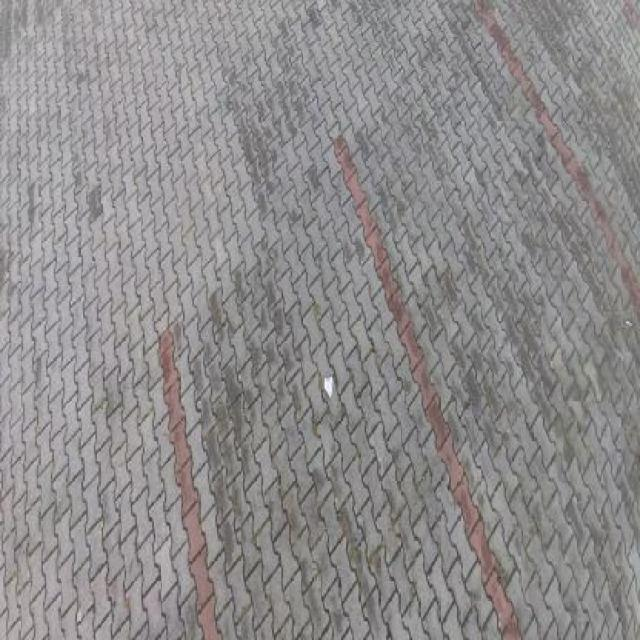Garbage: (324, 375, 333, 398)
